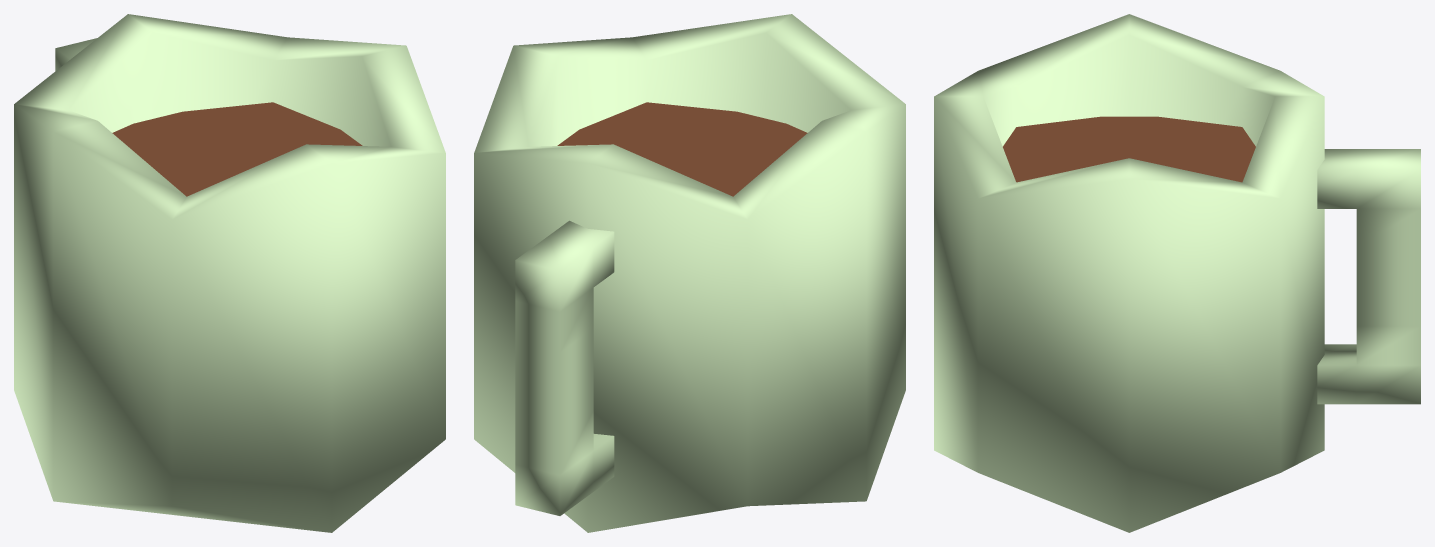
File: Cup.fbx
3 renders of one model, left to right at view 1: azimuth 30°, elevation 25°; view 2: azimuth 150°, elevation 25°; view 3: azimuth 270°, elevation 25°, orthographic. The views are drawn at different scales.
Parts seen in each view (by area): view 1: Cube; view 2: Cube; view 3: Cube.
Part boxes in pixels (x1,y1,x2,y2): Cube: (14,14,445,532); Cube: (474,14,905,532); Cube: (934,14,1420,532).
Size of the model in its own units: 173 by 173 by 215.
